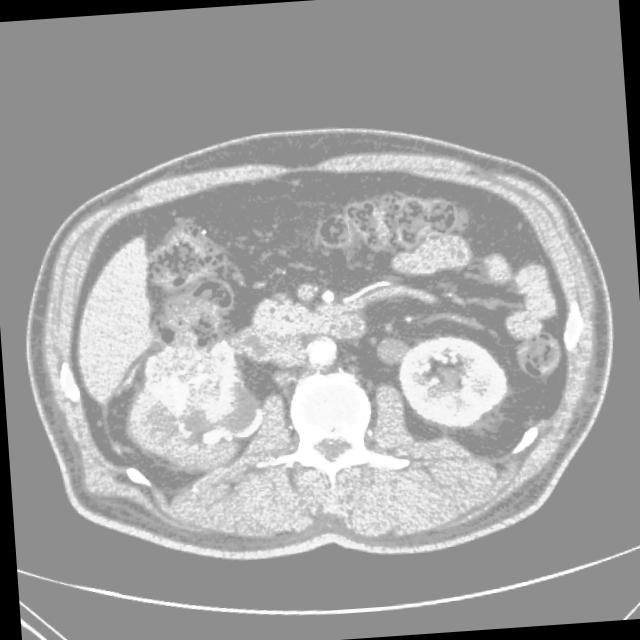TUMOR: (68, 288, 582, 512)
